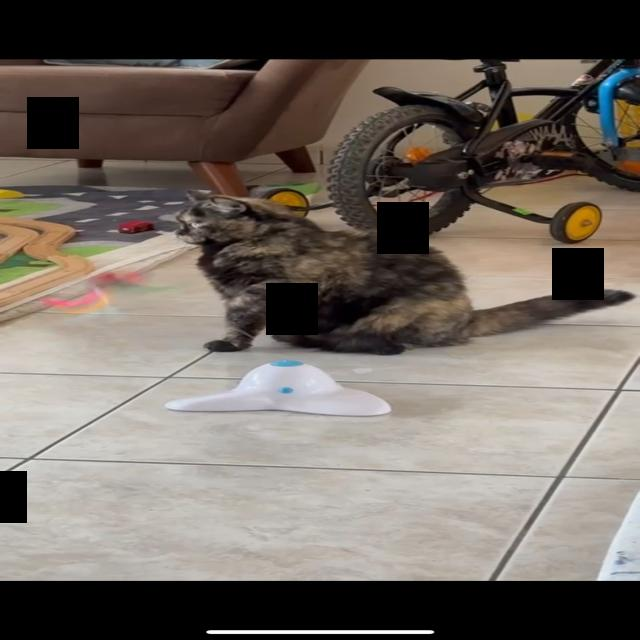authorized: (170, 188, 634, 356)
